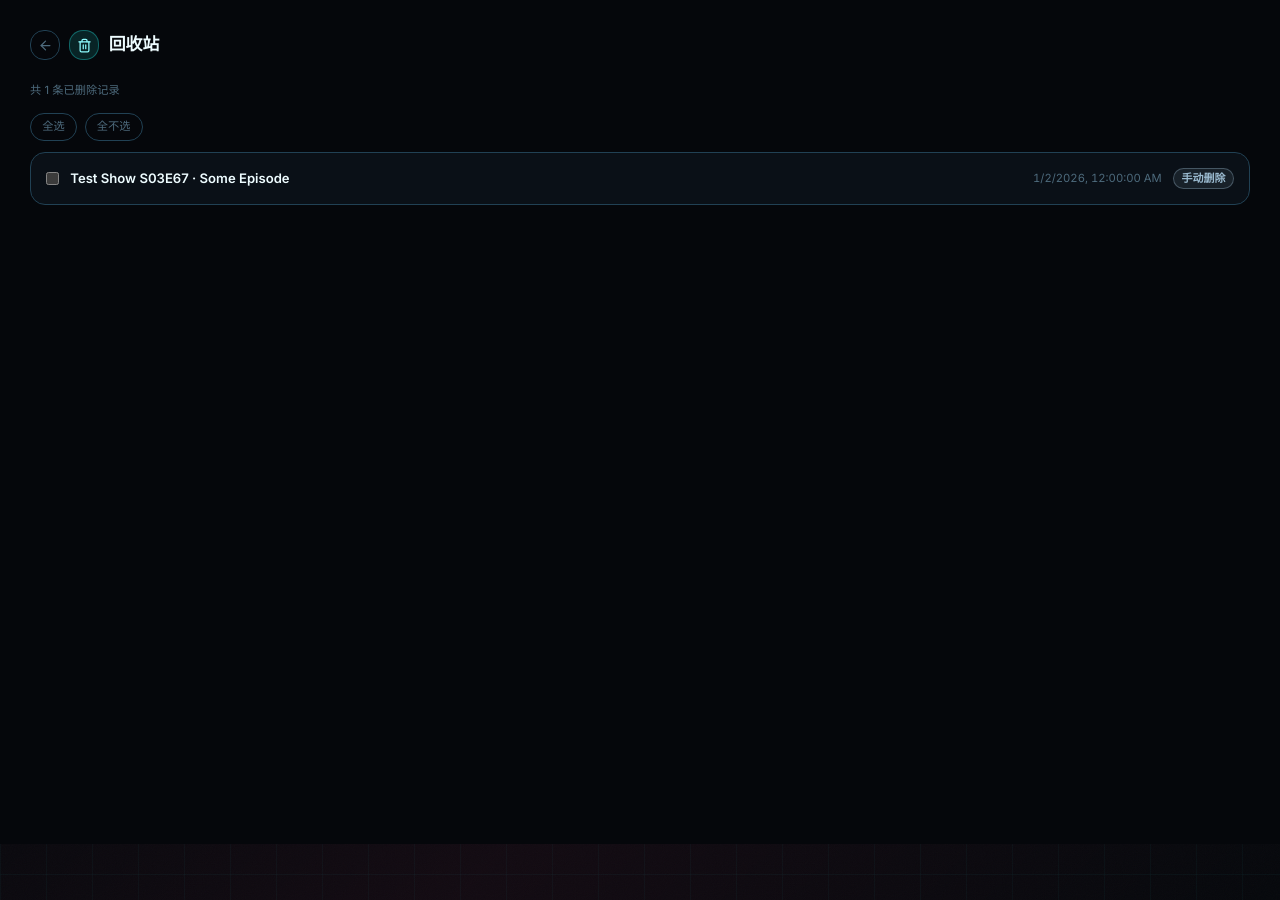
HistoryDeletionsPage › toggles an individual checkbox and shows the floating restore bar
Click the checkbox labelled "Test Show S03E67 · Some Episode 1/2/2026, 12:00:00 AM 手动删除". click: x=52, y=179
box: [46, 172, 59, 185]
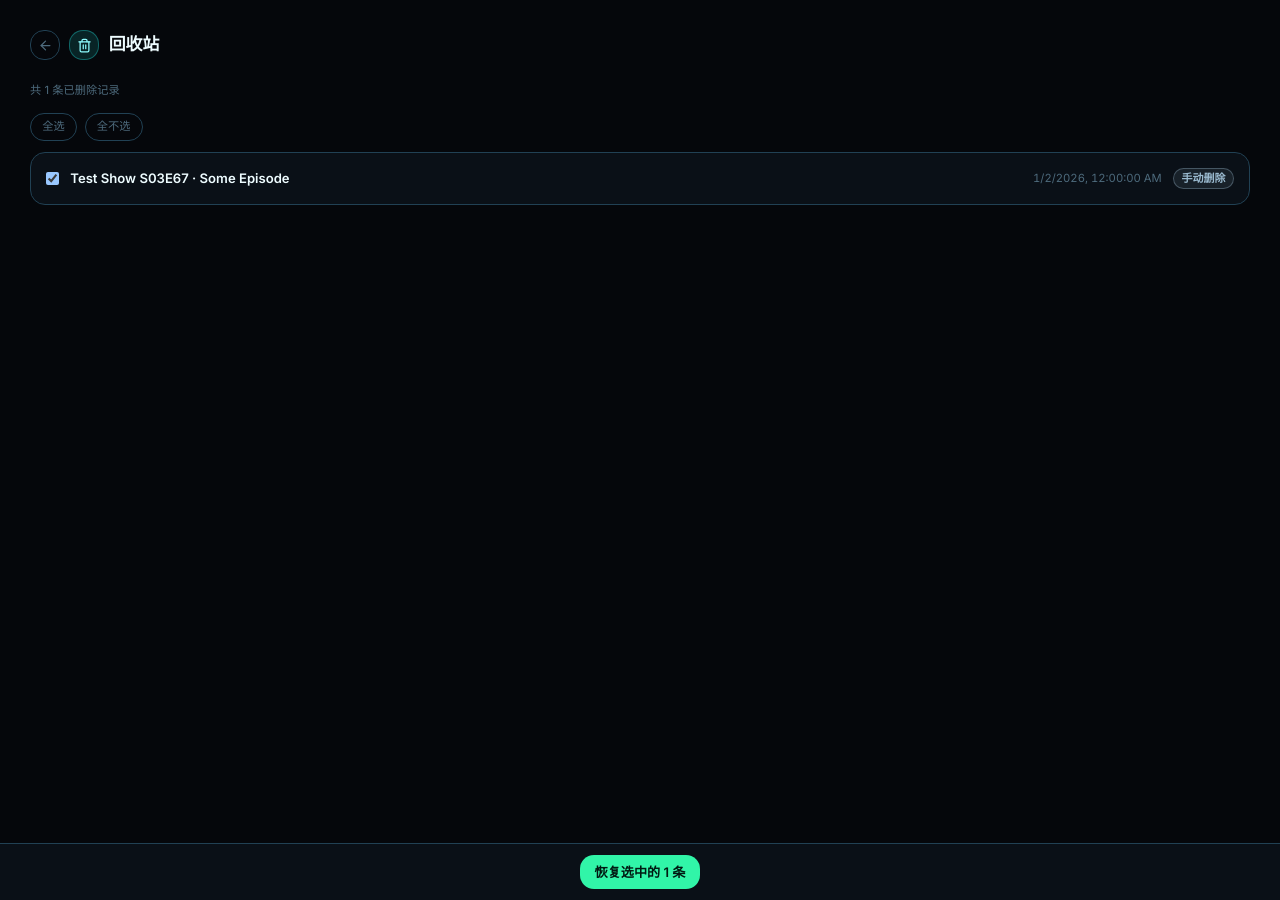
Now the checkbox labelled "Test Show S03E67 · Some Episode 1/2/2026, 12:00:00 AM 手动删除" is checked, box [46, 172, 59, 185]
Now the button "恢复选中的 1 条" is shown, box [580, 855, 700, 889]
